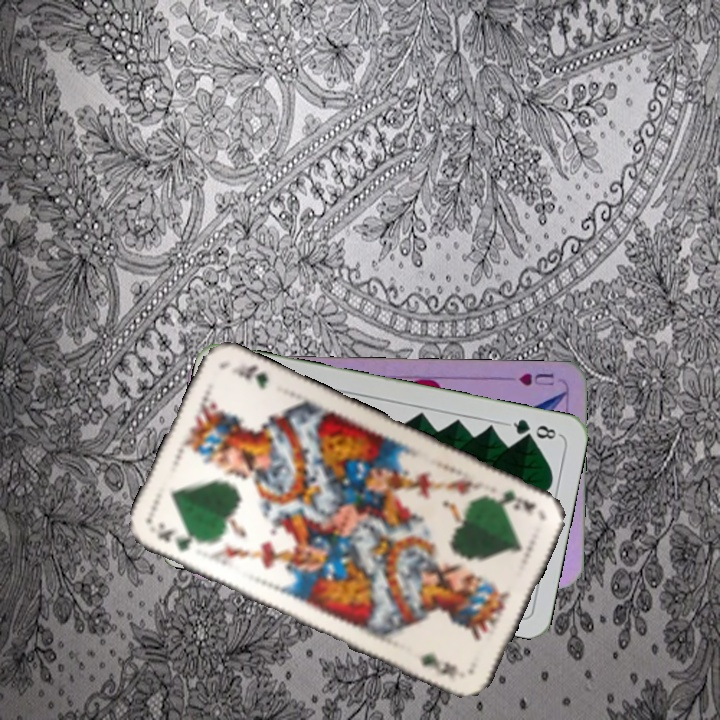G8: (503, 415, 562, 442)
GK: (485, 486, 539, 514), (153, 521, 195, 555)
HU: (514, 369, 557, 389)
